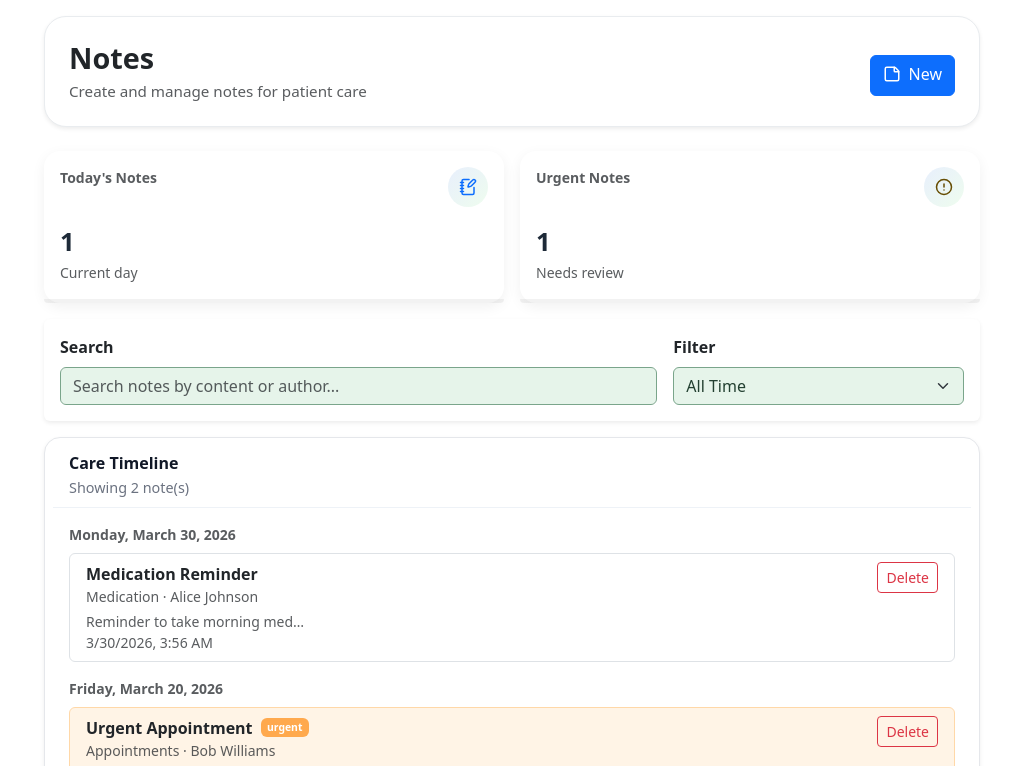
Test case: Notes page › filters notes by search term
This screenshot has width=1024, height=766.
Expected: the text "Medication Reminder" is shown, [86,562,258,584]
Type "alice" into the field labelled "Search" at (359, 386), box [60,367,657,405]
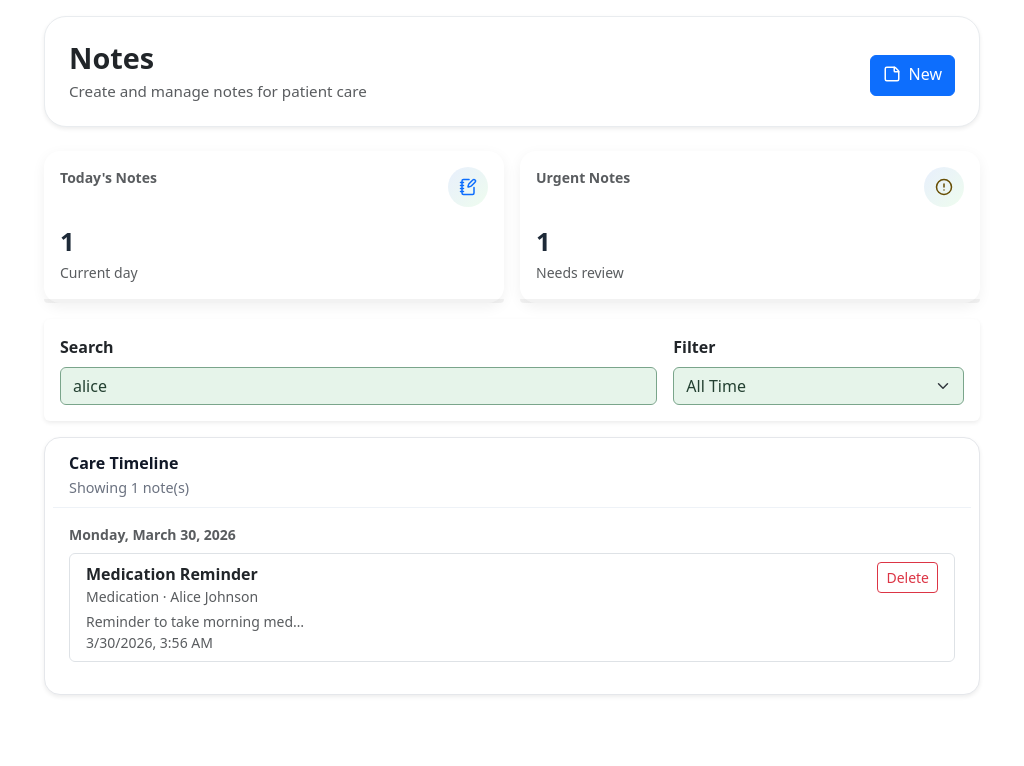
Expected: the text "Medication Reminder" is shown, [86,562,258,584]
Expected: the button "Urgent Appointment" is gone
